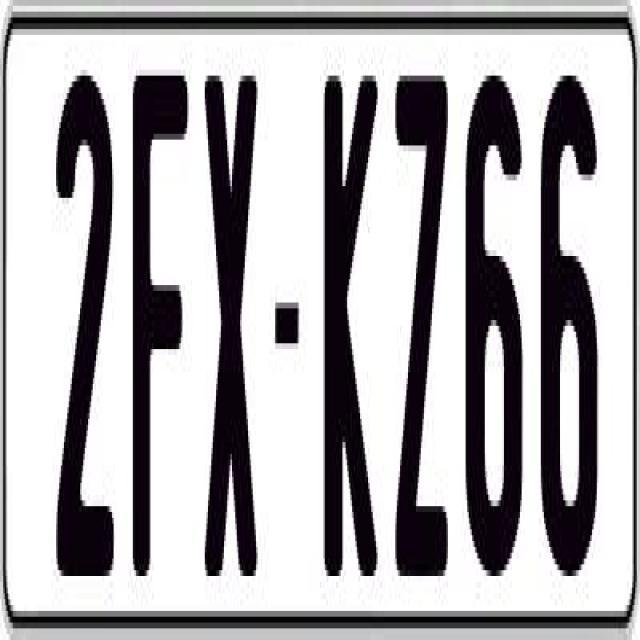2: (51, 58, 110, 570)
6: (461, 63, 520, 564), (536, 76, 594, 576)
F: (132, 64, 195, 594)
K: (320, 58, 373, 564)
X: (202, 58, 262, 559)
Z: (391, 64, 446, 594)
